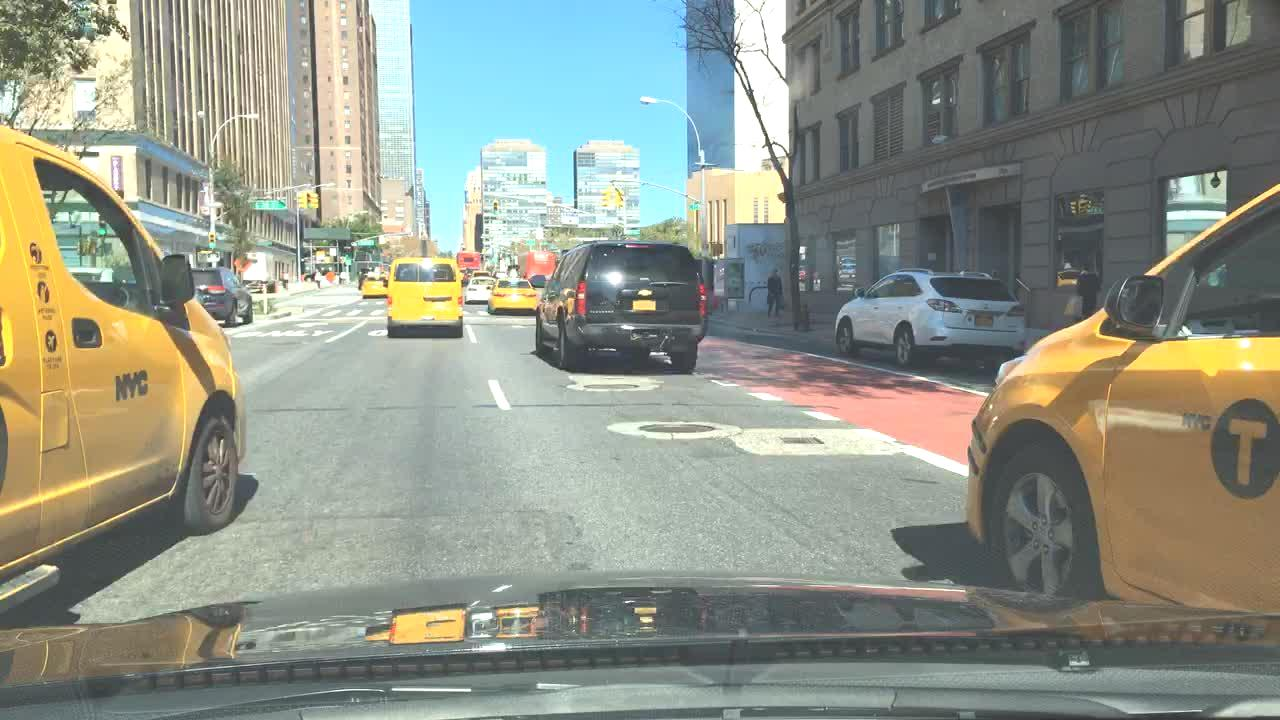chevrolet: (630, 284, 658, 300)
